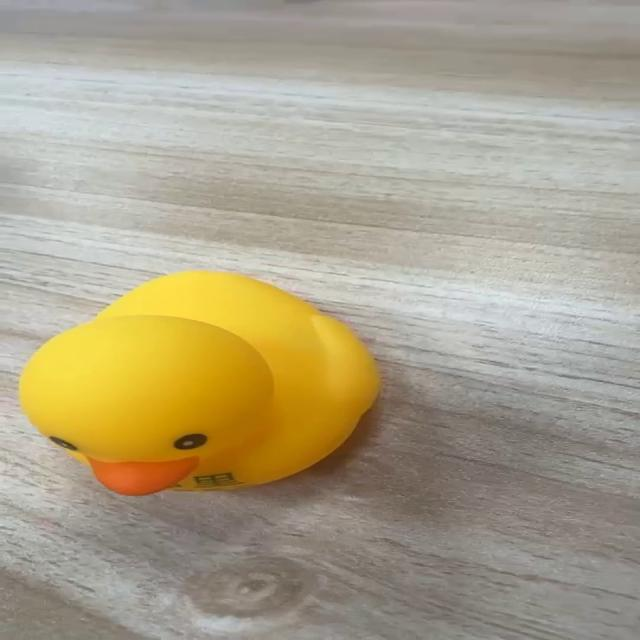yellow_duck: (16, 268, 382, 496)
